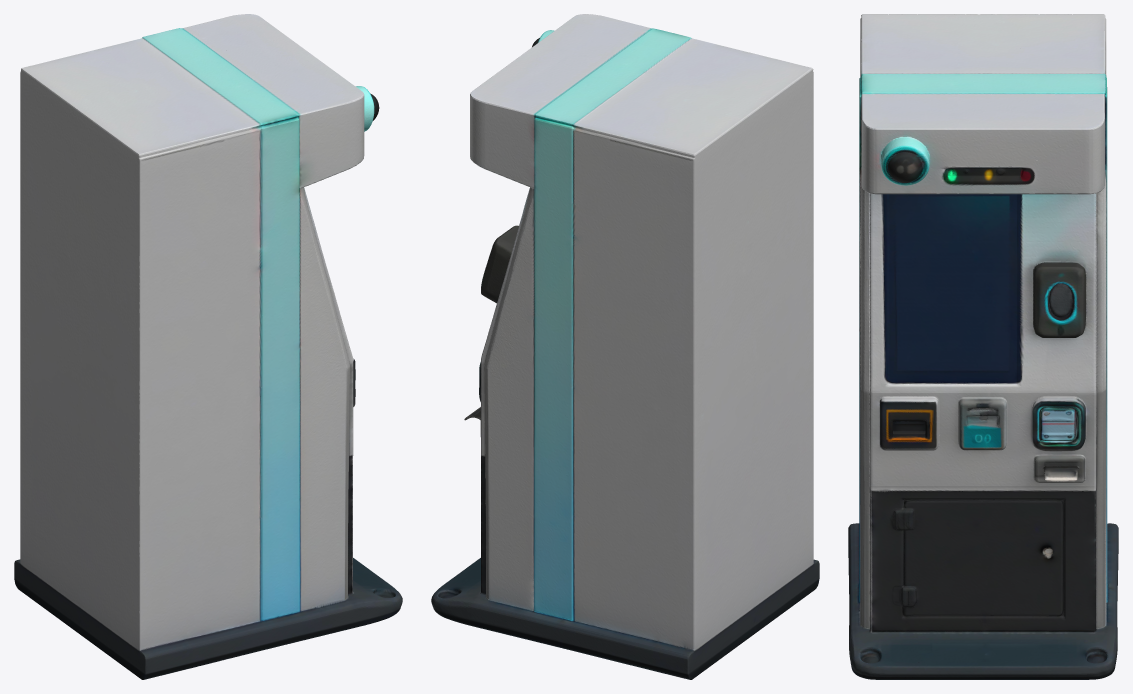
The picture shows the model from 3 angles, left to right: view 1: azimuth 30°, elevation 25°; view 2: azimuth 150°, elevation 25°; view 3: azimuth 270°, elevation 25°; orthographic projection. The views are drawn at different scales.
Parts seen in each view (by area): view 1: tripo_node_e087fd3c-683d-4b02-b432-6e0f8e98a716; view 2: tripo_node_e087fd3c-683d-4b02-b432-6e0f8e98a716; view 3: tripo_node_e087fd3c-683d-4b02-b432-6e0f8e98a716.
Part boxes in pixels (<box>): tripo_node_e087fd3c-683d-4b02-b432-6e0f8e98a716: <box>14,14,402,679</box>; tripo_node_e087fd3c-683d-4b02-b432-6e0f8e98a716: <box>431,14,819,679</box>; tripo_node_e087fd3c-683d-4b02-b432-6e0f8e98a716: <box>848,14,1118,679</box>.
Size of the model in its own units: 0.5373 by 1 by 0.4549.
1 material, 1 textured.
